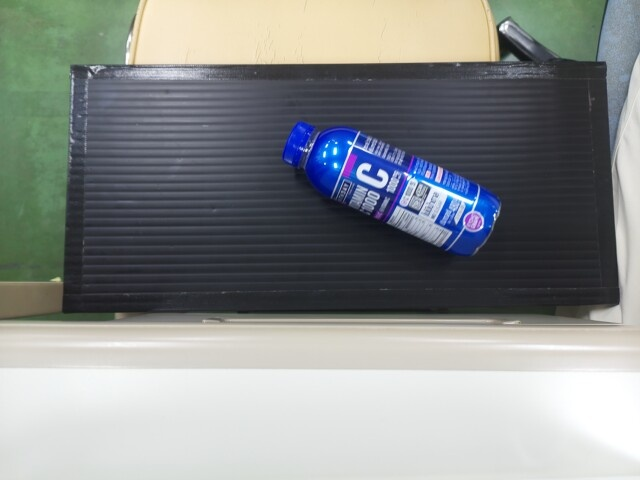plastic_bottle: (276, 105, 499, 257)
